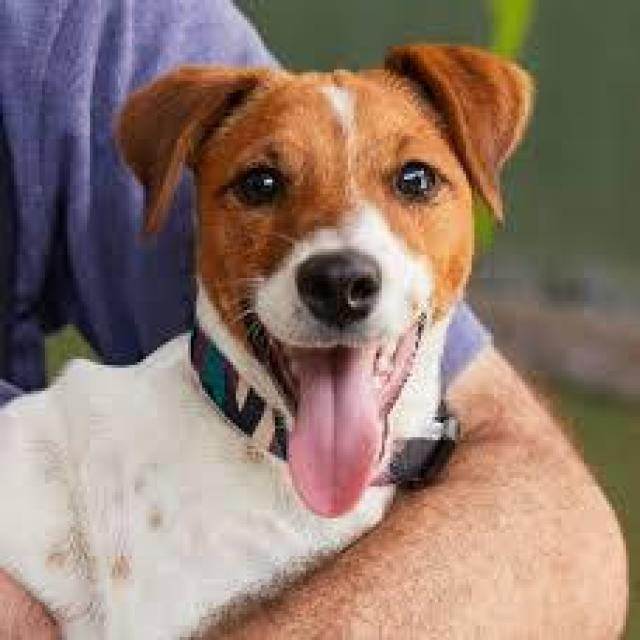Dog: (103, 34, 539, 522)
